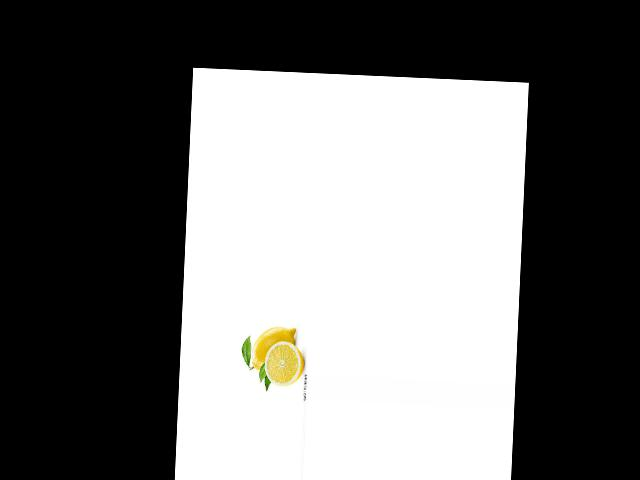lemon: (249, 317, 298, 375)
